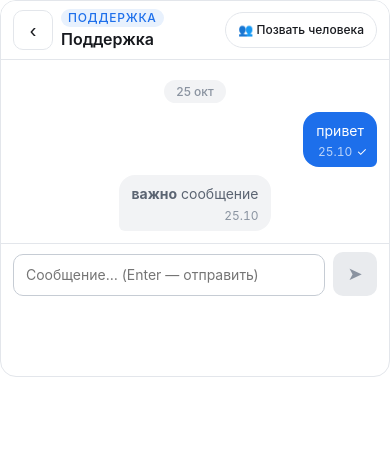
Test: ChatRoom: композер › кнопка «Позвать человека» (support): POST summon-operator + оптимистичная system-строка
Expected: the text "важно" is shown, [132, 185, 177, 202]
Click the button "👥 Позвать человека". click: (301, 30)
box: [225, 12, 377, 48]
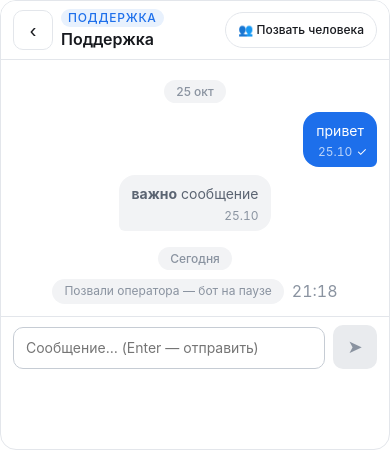
Result: the text "Позвали оператора — бот на паузе" is shown at [52, 279, 284, 304]
